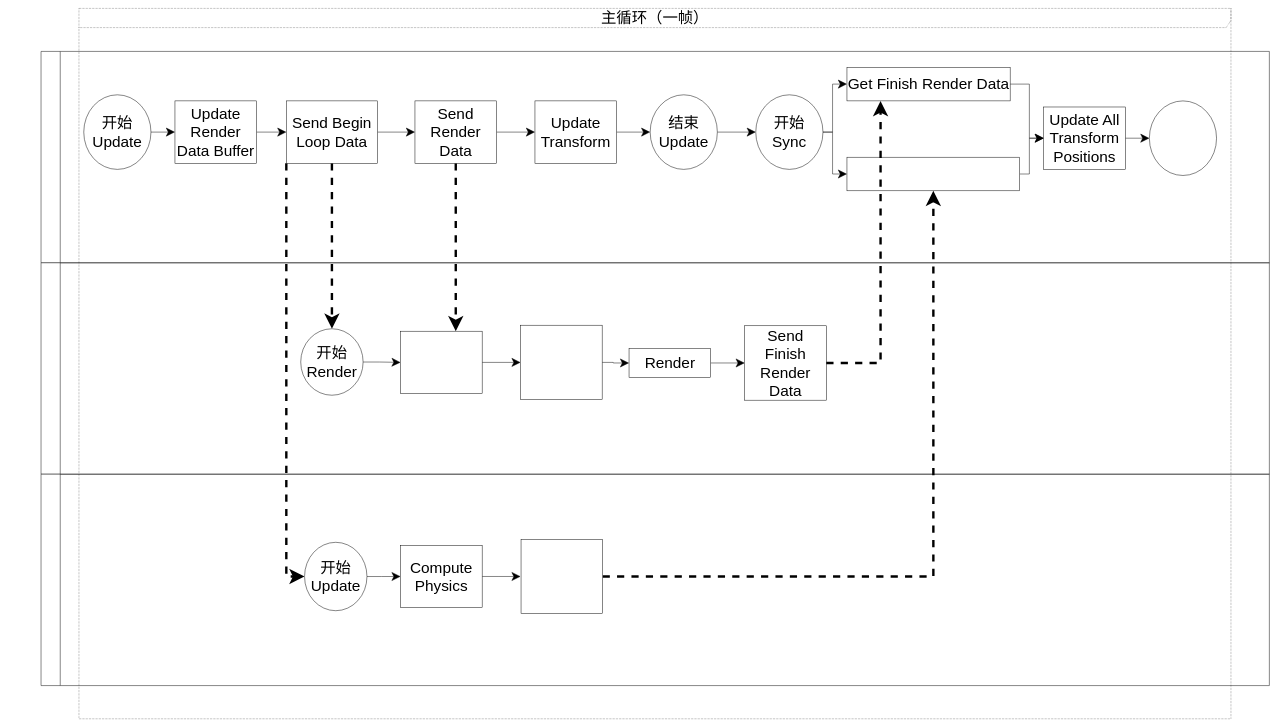
The diagram is 1278 pixels wide and 727 high, and some of its shapes have lost their labels. The shapes that lost their labels are listed below. From the top down, each one's box as (x1, y1, x2, y2) in pixels, then its label:
(41, 51, 1269, 263): Main Worker
(1149, 100, 1217, 175): 结束 Sync
(846, 157, 1020, 191): Get Finish Physics Data
(400, 331, 482, 394): Get Render Data
(520, 325, 602, 400): Send Uniform Shader Data
(41, 262, 1269, 474): Render Worker
(521, 539, 603, 614): Send Finish Physics Data
(41, 474, 1269, 686): Physics Worker
